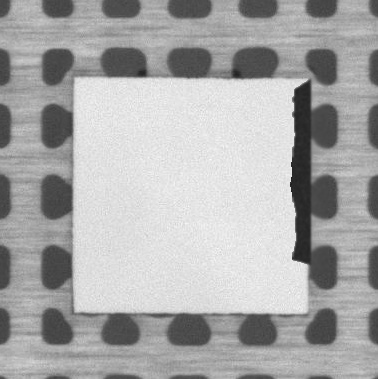DIE_BROKEN: (289, 77, 313, 270)
